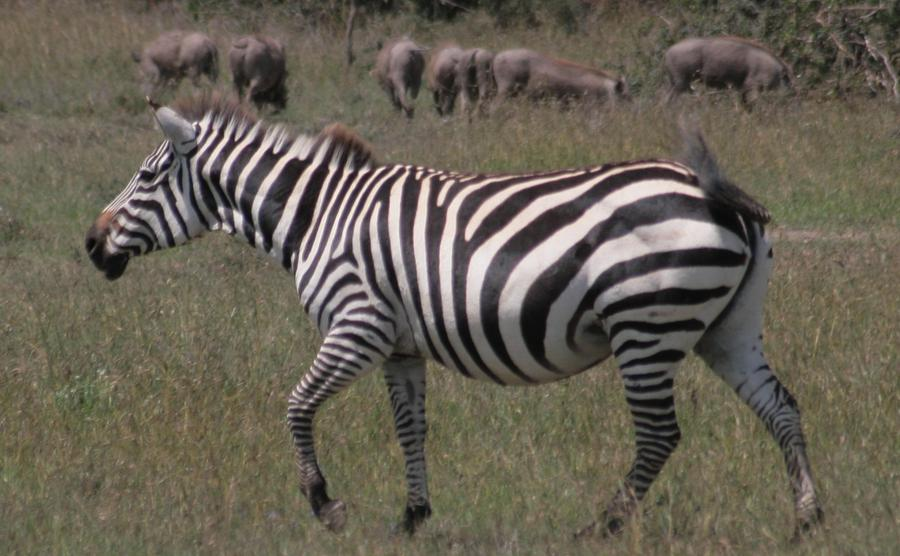zebra_plains: (277, 139, 737, 401)
